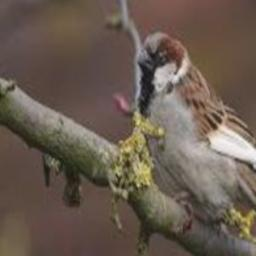Sparrow: (138, 30, 256, 256)
